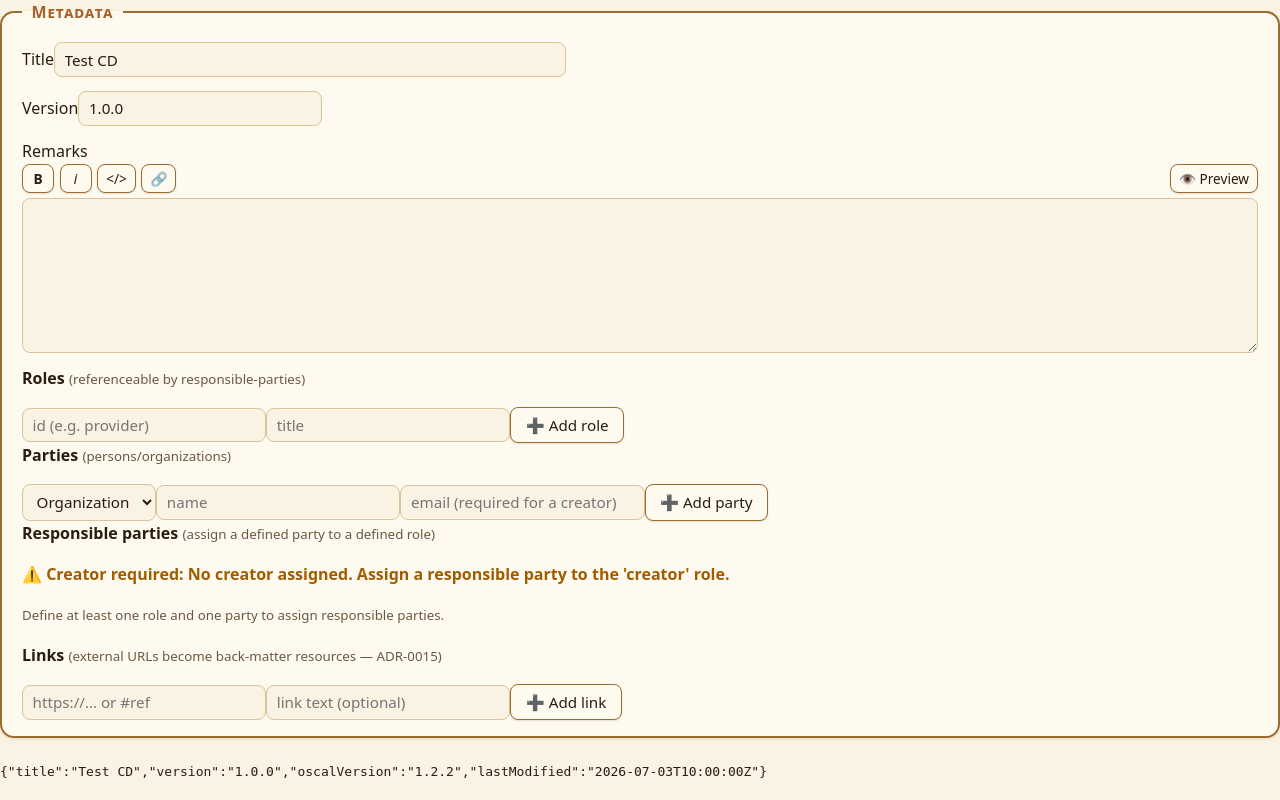
it: MetadataEditor responsible-parties (referential integrity) › gates the responsible-party form until at least one role AND one party exist
The image size is (1280, 800).
Expected: the element with test id "md-rp-guidance" is shown, [22, 606, 444, 624]
In the field with test id "md-role-id": (144, 425) [22, 408, 266, 442], type "provider"
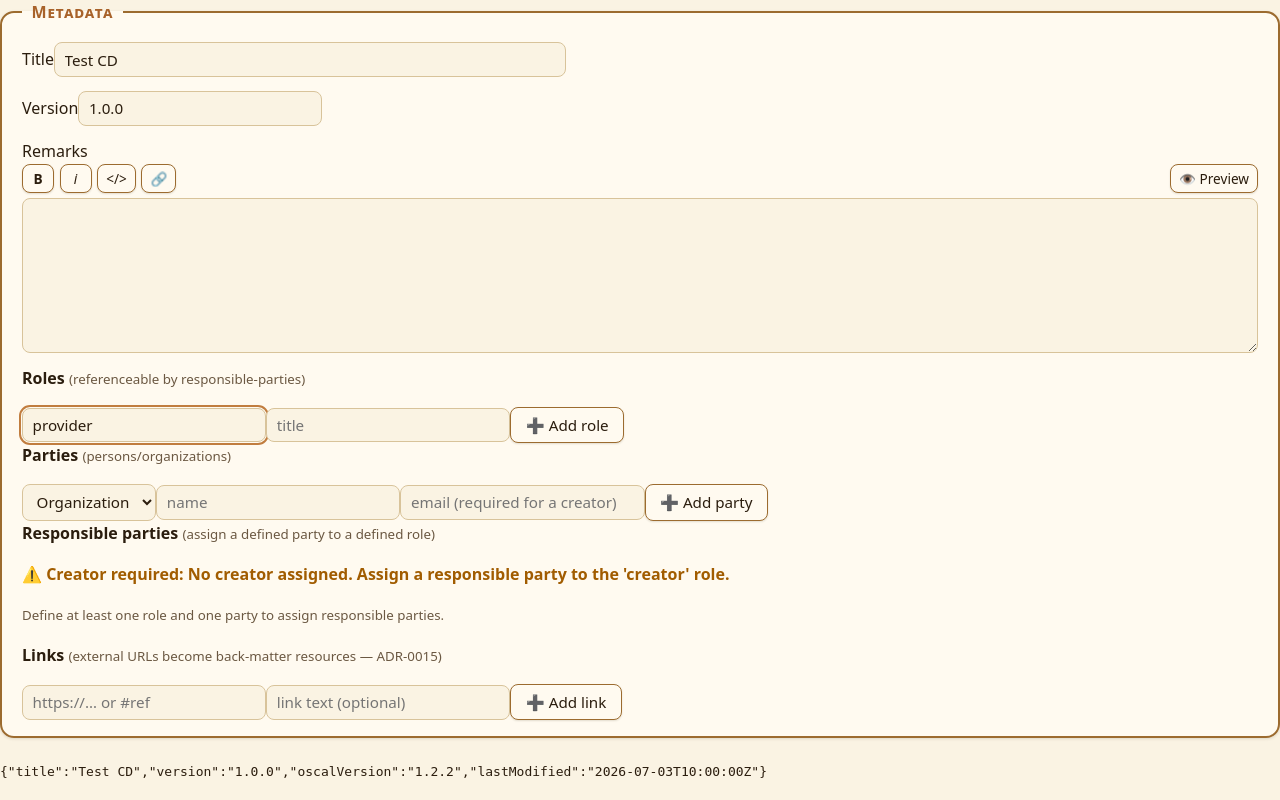
In the field with test id "md-role-title": (388, 425) [266, 408, 510, 442], type "Anbieter"
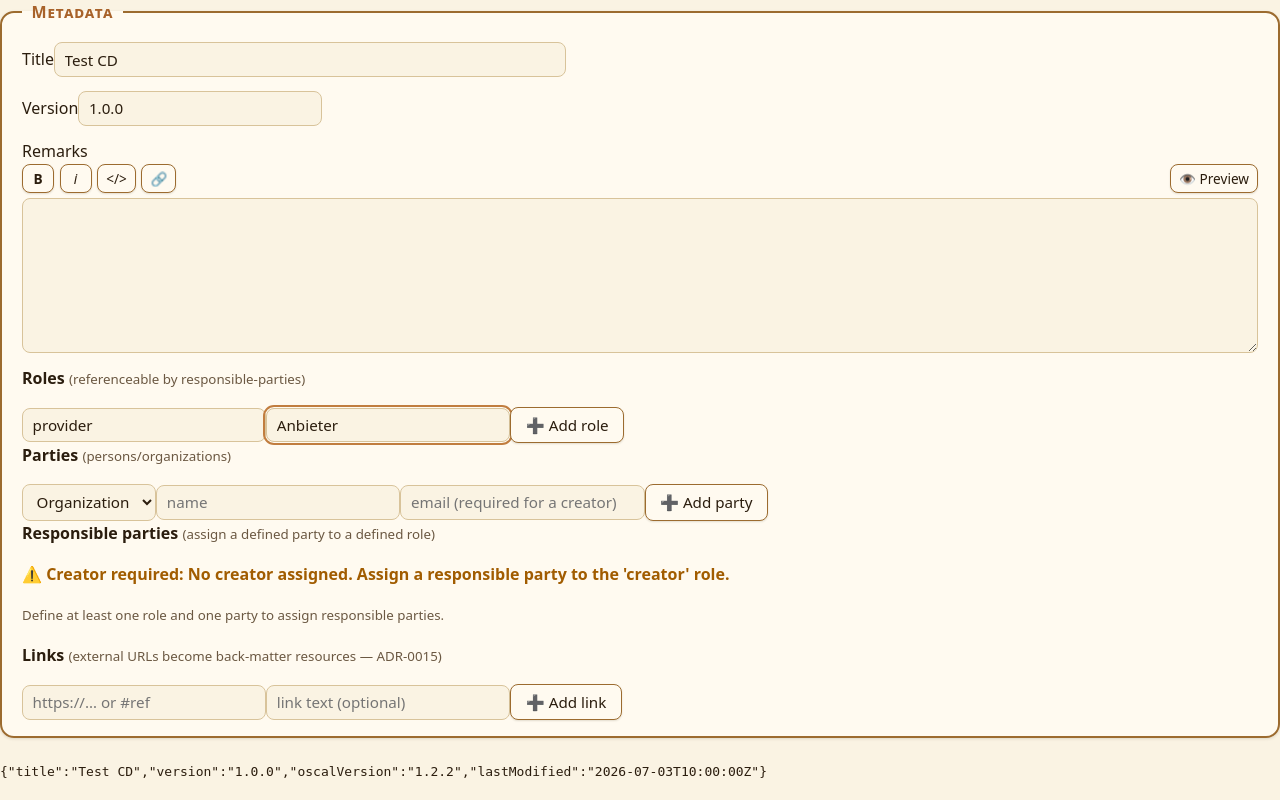
Click the button with test id "md-add-role": click(567, 425) [510, 407, 624, 443]
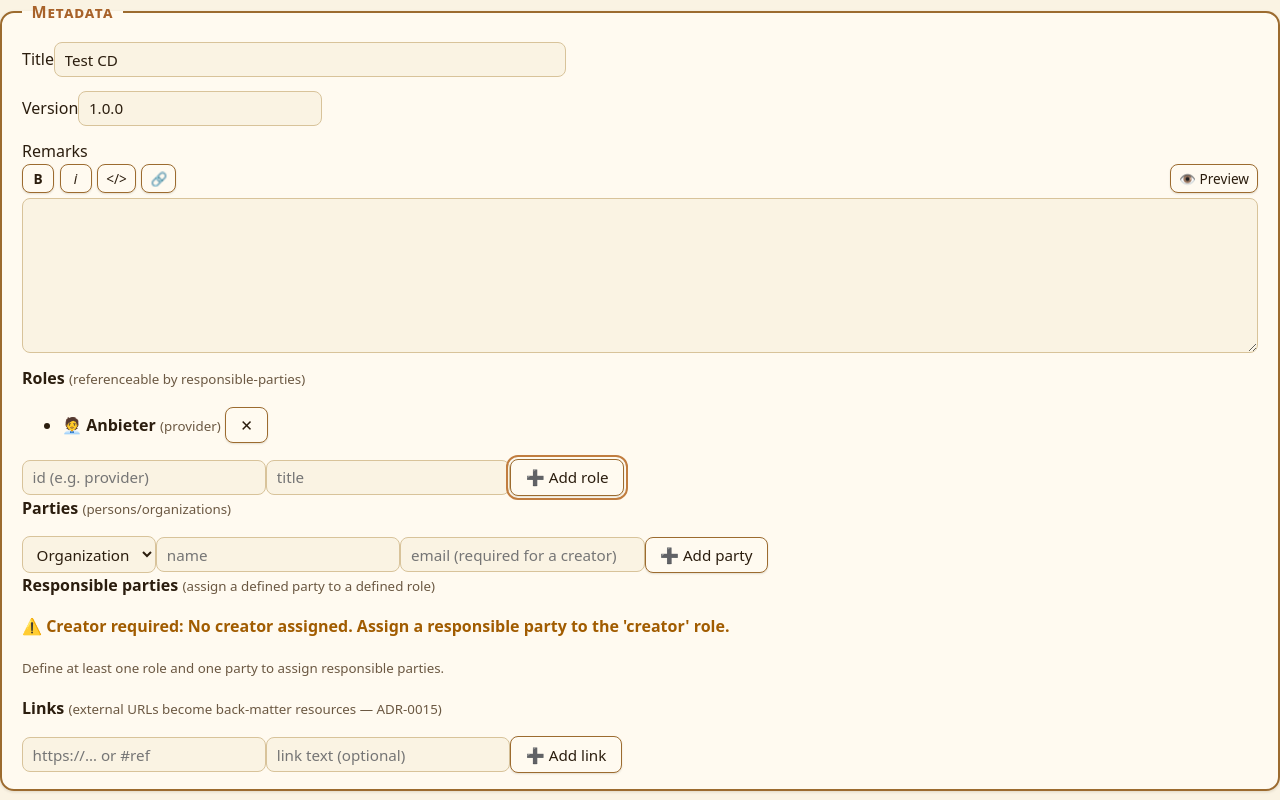
Expected: the element with test id "md-rp-guidance" is shown, [22, 659, 444, 677]
Select "Organization" in the dropdown with test id "md-party-type": (89, 555) [22, 536, 156, 573]
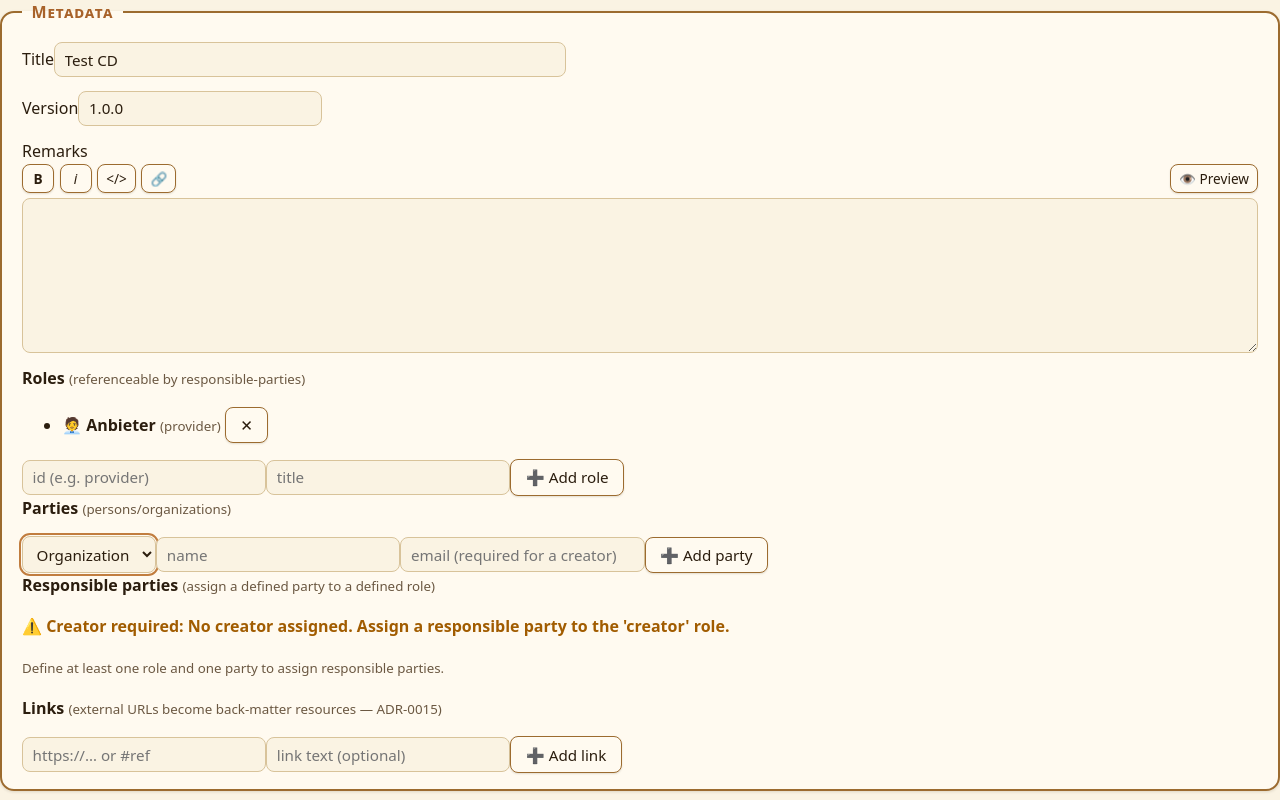
In the field with test id "md-party-name": (278, 555) [156, 538, 400, 572], type "ACME GmbH"
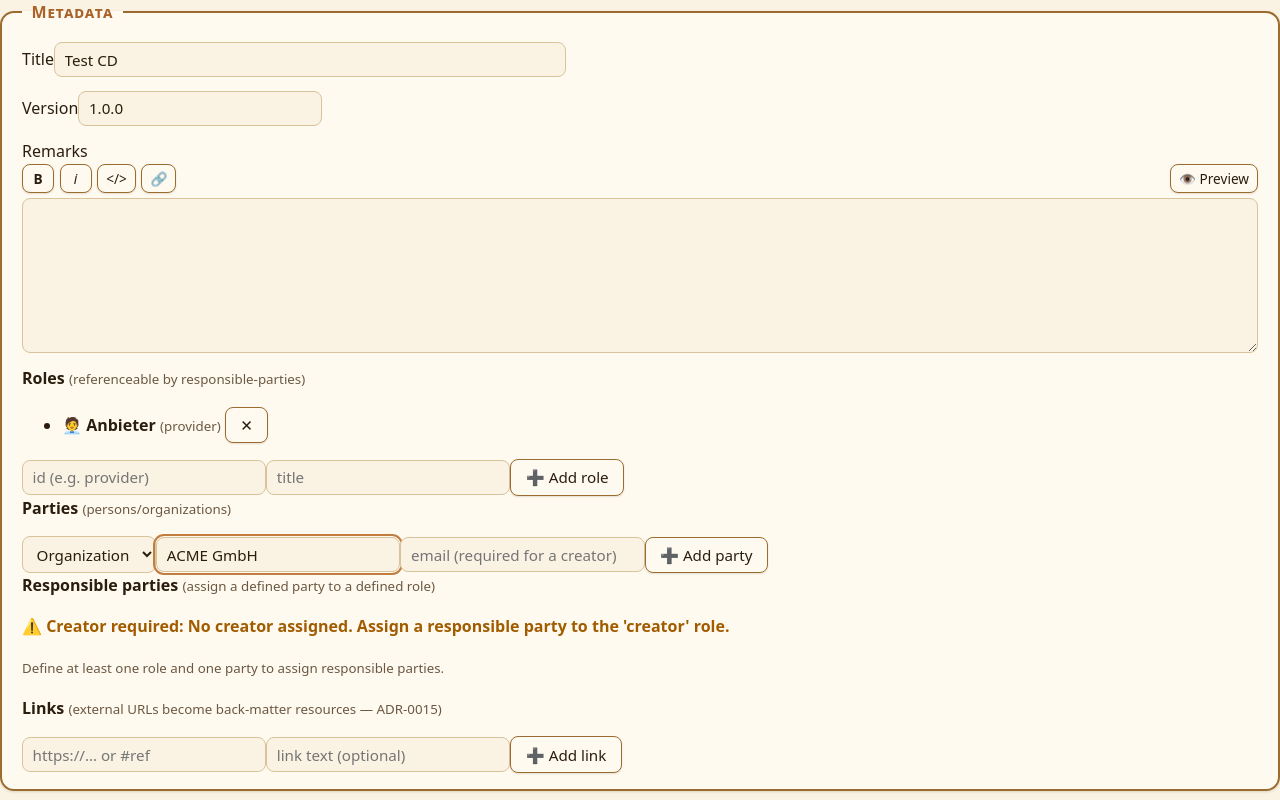
Click the button with test id "md-add-party": click(706, 555) [645, 537, 768, 573]
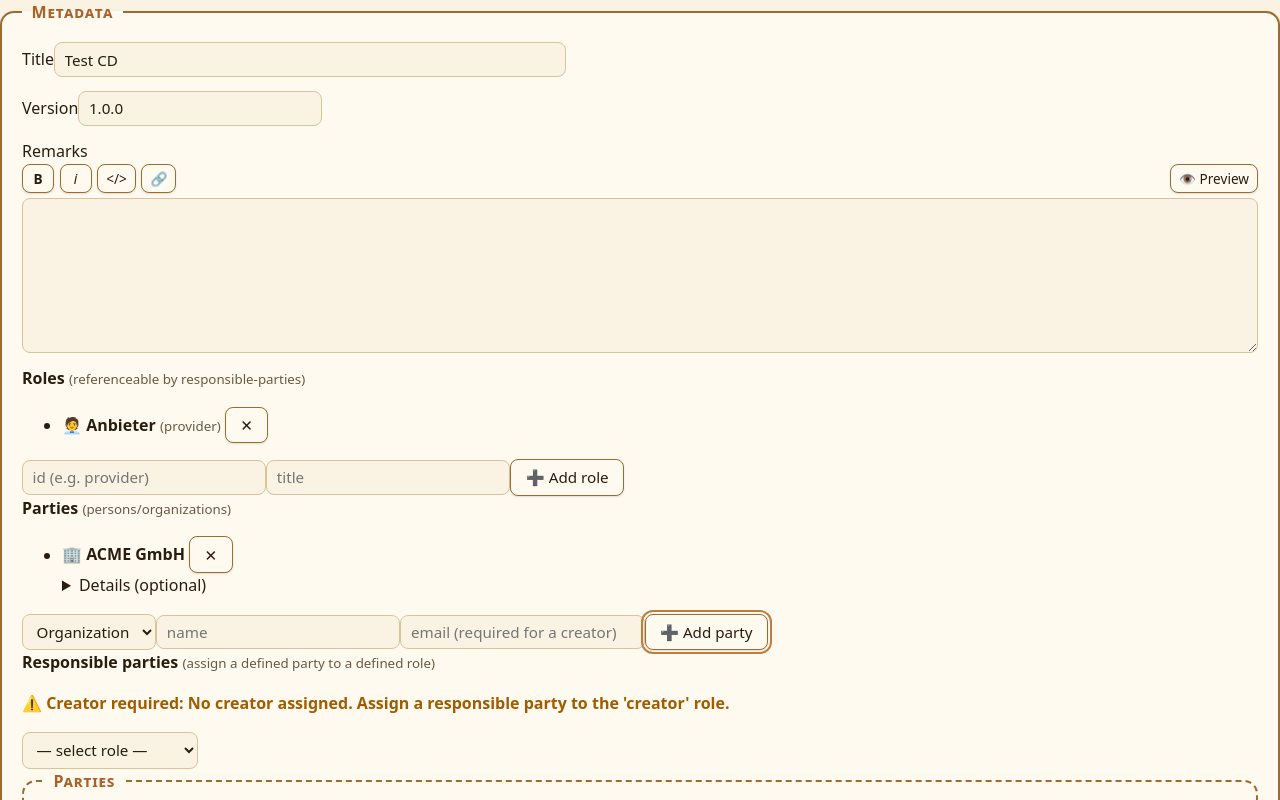
Now the element with test id "md-rp-guidance" is gone
Now the dropdown with test id "md-rp-role" is shown, box [22, 732, 198, 769]
